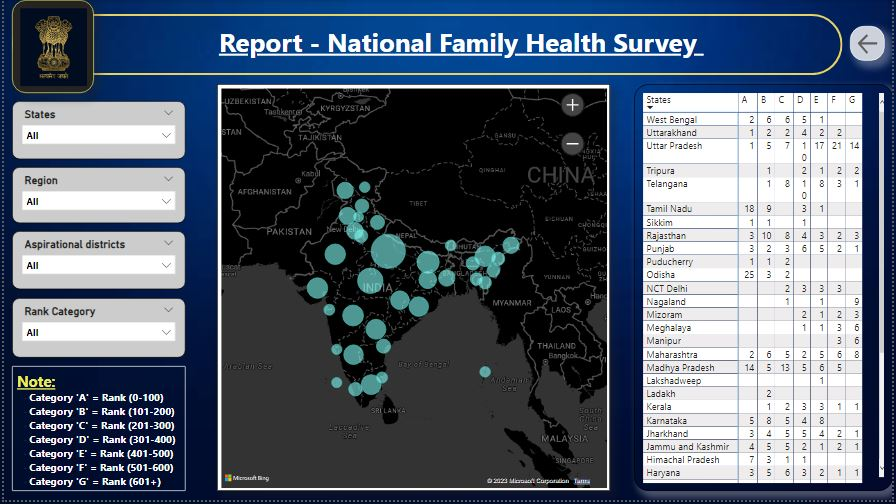

Layout of this report page (visuals, bound fields, positions):
{"tool":"powerbi","page":{"name":"Dashboard_pg2","canvas":[1280,720],"ordinal":1},"visuals":[{"type":"slicer","fields":{"Values":["District Rank.Aspirational districts"]},"box":[11.6,332.8,250,84.5],"z":0},{"type":"slicer","fields":{"Values":["District Rank.Region"]},"box":[11.6,240.1,250,81.1],"z":1000},{"type":"slicer","fields":{"Values":["District Rank.States"]},"box":[11.6,145.7,250,84.5],"z":2000},{"type":"map","title":"Rank Density per States","fields":{"Category":["District Rank.States"],"Size":["CountNonNull(District Rank.Rank Category)"]},"box":[306.3,120.9,566.3,586.2],"z":3000},{"type":"pivotTable","fields":{"Rows":["District Rank.States"],"Columns":["District Rank.Rank Category"],"Values":["CountNonNull(District Rank.District)"]},"box":[907.4,120.9,372.6,586.2],"z":4000},{"type":"slicer","fields":{"Values":["District Rank.Rank Category"]},"box":[11.6,428.9,250,86.1],"z":5000},{"type":"shape","box":[11.6,19.9,1195.5,87.8],"z":6000},{"type":"textbox","box":[147.4,29.8,1023.3,64.6],"z":7000},{"type":"image","box":[11.6,0,117.6,134.1],"z":8000},{"type":"textbox","box":[11.6,526.6,250,180.5],"z":9000},{"type":"actionButton","box":[1218.7,38.1,49.7,49.7],"z":10000}]}

Visuals, with their boxes in screenshot pixels (x1, y1, x2, y2), scaled from the page's 1280x720 canvas onto the 896x504 screenshot:
slicer - District Rank.Aspirational districts: box=[8, 233, 183, 292]
slicer - District Rank.Region: box=[8, 168, 183, 225]
slicer - District Rank.States: box=[8, 102, 183, 161]
"Rank Density per States" map: box=[214, 85, 611, 495]
pivotTable - District Rank.States x District Rank.Rank Category: box=[635, 85, 895, 495]
slicer - District Rank.Rank Category: box=[8, 300, 183, 360]
shape: box=[8, 14, 845, 75]
textbox: box=[103, 21, 819, 66]
image: box=[8, 0, 90, 94]
textbox: box=[8, 369, 183, 495]
actionButton: box=[853, 27, 888, 61]
